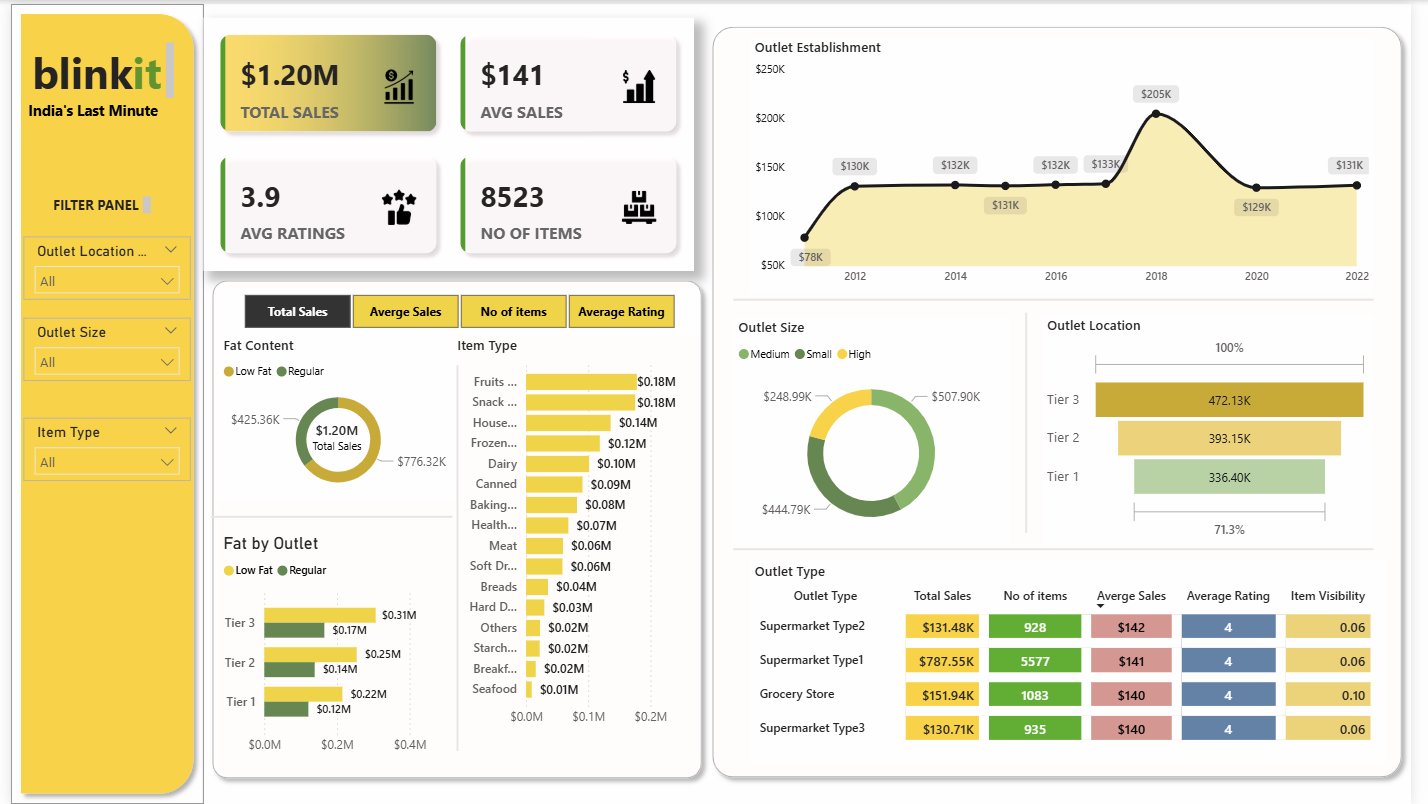

Layout of this report page (visuals, bound fields, positions):
{"tool":"powerbi","page":{"name":"Page 1","canvas":[1400,800],"ordinal":0},"visuals":[{"type":"shape","box":[0,0,192.9,800],"z":0},{"type":"textbox","box":[12,34,155,83],"z":1000},{"type":"cardVisual","fields":{"Data":["BlinkIT Grocery Data.Total Sales","BlinkIT Grocery Data.Averge Sales","BlinkIT Grocery Data.Average Rating","BlinkIT Grocery Data.No of items"]},"box":[192.9,14.3,490,252.9],"z":2000},{"type":"shape","box":[192.9,267.1,507.1,515.7],"z":3000},{"type":"donutChart","title":"Fat Content ","fields":{"Y":["BlinkIT Grocery Data.Total Sales"],"Category":["BlinkIT Grocery Data.Item Fat Content"]},"box":[207.1,331.4,240,164.3],"z":4000},{"type":"slicer","fields":{"Values":["Metrics .Metrics "]},"box":[207.1,284.3,480,47.1],"z":5000},{"type":"cardVisual","fields":{"Data":["BlinkIT Grocery Data.Total Sales"]},"box":[270,400,112.9,61.4],"z":6000},{"type":"clusteredBarChart","title":"Fat by Outlet ","fields":{"Y":["BlinkIT Grocery Data.Total Sales"],"Category":["BlinkIT Grocery Data.Outlet Location Type"],"Series":["BlinkIT Grocery Data.Item Fat Content"]},"box":[207.1,528.6,220,230],"z":7000},{"type":"shape","box":[200,500,241.4,25.7],"z":8000},{"type":"shape","box":[430,361.4,32.9,385.7],"z":9000},{"type":"barChart","title":"Item Type ","fields":{"Y":["BlinkIT Grocery Data.Total Sales"],"Category":["BlinkIT Grocery Data.Item Type"]},"box":[441.4,331.4,245.7,400],"z":10000},{"type":"shape","box":[692.9,14.3,707.1,768.6],"z":11000},{"type":"lineChart","title":"Outlet Establishment ","fields":{"Y":["BlinkIT Grocery Data.Total Sales"],"Category":["BlinkIT Grocery Data.Outlet Establishment Year"]},"box":[738.6,34.3,624.3,255.7],"z":12000},{"type":"shape","box":[722.9,290,640,11.4],"z":13000},{"type":"donutChart","title":"Outlet Size","fields":{"Y":["BlinkIT Grocery Data.Total Sales"],"Category":["BlinkIT Grocery Data.Outlet Size"]},"box":[722.9,314.3,275.7,225.7],"z":14000},{"type":"shape","box":[998.6,308.6,32.9,220],"z":15000},{"type":"funnel","title":"Outlet Location","fields":{"Y":["Sum(BlinkIT Grocery Data.Sales)"],"Category":["BlinkIT Grocery Data.Outlet Location Type"]},"box":[1031.4,311.4,331.4,228.6],"z":16000},{"type":"shape","box":[722.9,534.3,640,22.9],"z":17000},{"type":"pivotTable","title":"Outlet Type","fields":{"Rows":["BlinkIT Grocery Data.Outlet Type"],"Values":["BlinkIT Grocery Data.Total Sales","BlinkIT Grocery Data.No of items","BlinkIT Grocery Data.Averge Sales","BlinkIT Grocery Data.Average Rating","Avg(BlinkIT Grocery Data.Item Visibility)"]},"box":[738.6,557.1,635.7,201.4],"z":18000},{"type":"slicer","fields":{"Values":["BlinkIT Grocery Data.Outlet Location Type"]},"box":[12.9,232.9,167.1,62.9],"z":19000},{"type":"slicer","fields":{"Values":["BlinkIT Grocery Data.Outlet Size"]},"box":[12.9,314.3,167.1,62.9],"z":20000},{"type":"slicer","fields":{"Values":["BlinkIT Grocery Data.Item Type"]},"box":[12.9,414.3,167.1,62.9],"z":21000},{"type":"textbox","box":[37.1,187.1,107.1,27.1],"z":22000}]}

Visuals, with their boxes in screenshot pixels (x1, y1, x2, y2), scaled from the page's 1400x800 canvas onto the 1428x804 screenshot:
shape: 0/0/197/803
textbox: 12/34/170/118
cardVisual - BlinkIT Grocery Data.Total Sales x BlinkIT Grocery Data.Averge Sales: 197/14/697/269
shape: 197/268/714/787
"Fat Content " donutChart: 211/333/456/498
slicer - Metrics .Metrics : 211/286/701/333
cardVisual - BlinkIT Grocery Data.Total Sales: 275/402/391/464
"Fat by Outlet " clusteredBarChart: 211/531/436/762
shape: 204/502/450/528
shape: 439/363/472/751
"Item Type " barChart: 450/333/701/735
shape: 707/14/1427/787
"Outlet Establishment " lineChart: 753/34/1390/291
shape: 737/291/1390/303
"Outlet Size" donutChart: 737/316/1019/543
shape: 1019/310/1052/531
"Outlet Location" funnel: 1052/313/1390/543
shape: 737/537/1390/560
"Outlet Type" pivotTable: 753/560/1402/762
slicer - BlinkIT Grocery Data.Outlet Location Type: 13/234/184/297
slicer - BlinkIT Grocery Data.Outlet Size: 13/316/184/379
slicer - BlinkIT Grocery Data.Item Type: 13/416/184/480
textbox: 38/188/147/215
